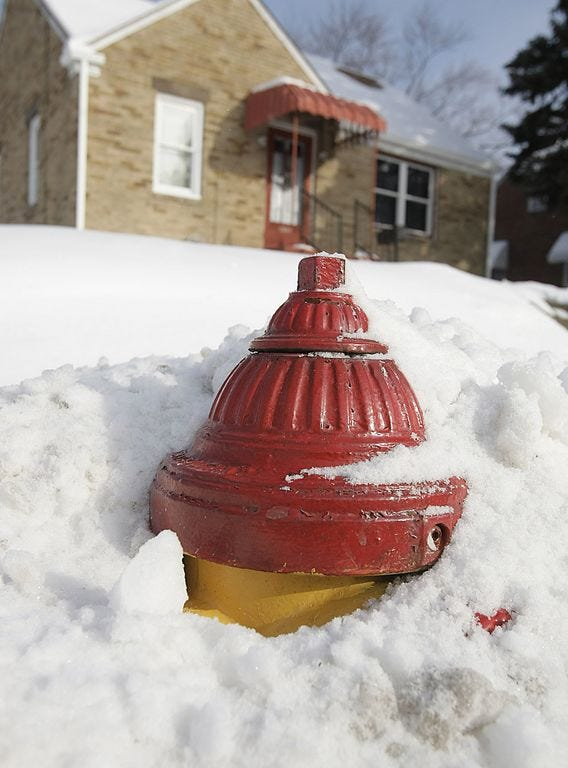FireHydrant: (145, 240, 462, 680)
